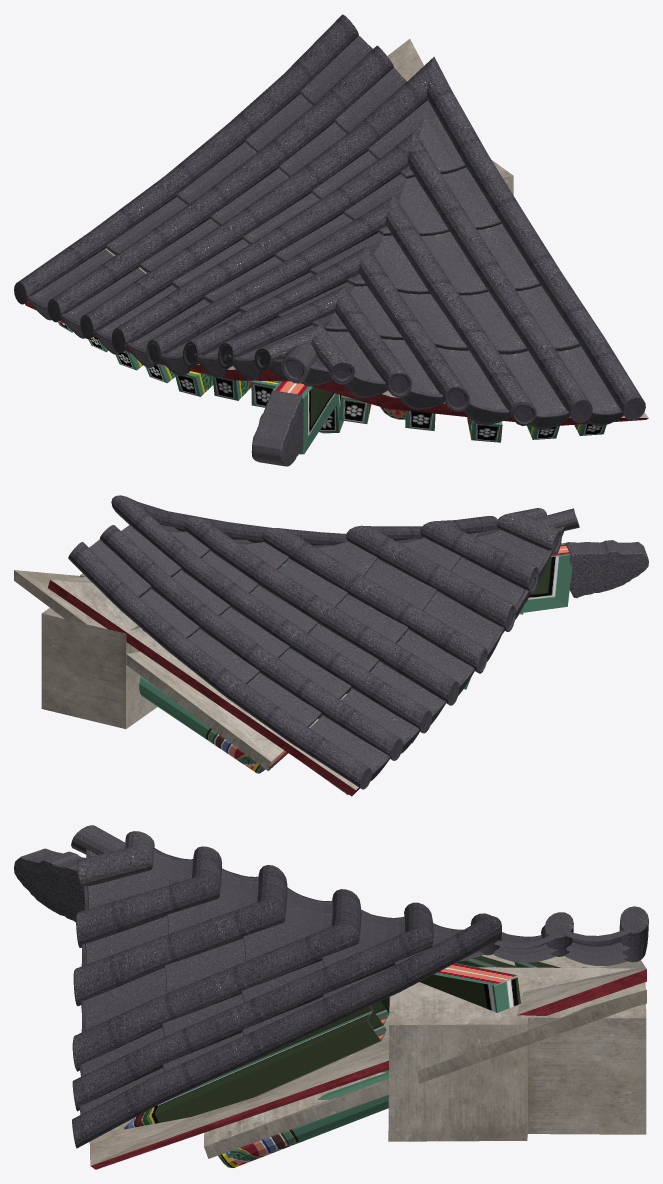
File: SM_R_RoofCorner_10.fbx
3 renders of one model, top to bottom at view 1: azimuth 30°, elevation 25°; view 2: azimuth 150°, elevation 25°; view 3: azimuth 270°, elevation 25°, orthographic. The views are drawn at different scales.
Visible parts, largest first — view 1: SM_R_RoofCorner_10; view 2: SM_R_RoofCorner_10; view 3: SM_R_RoofCorner_10.
Part boxes in pixels (<box>): SM_R_RoofCorner_10: <box>14,14,648,466</box>; SM_R_RoofCorner_10: <box>14,495,648,796</box>; SM_R_RoofCorner_10: <box>14,825,648,1169</box>.
Bounding box in the file's own units: 471 × 551 × 247.
4 materials, 4 textured.
